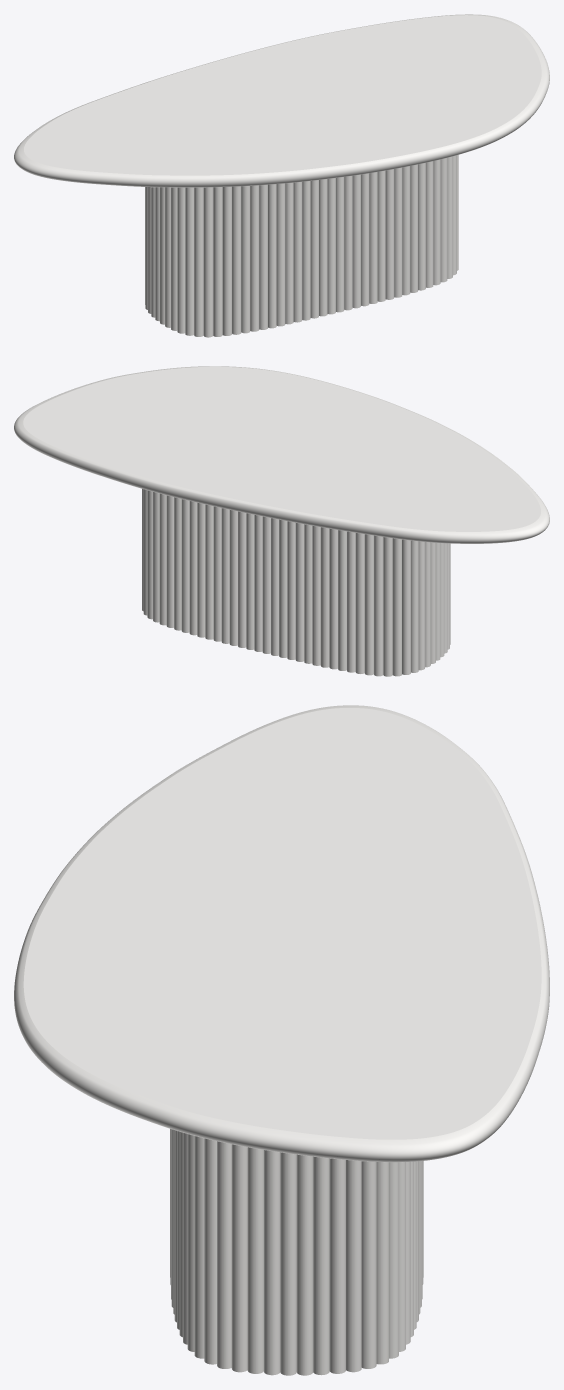
File: purewhite_pebbletop_round_newtable.glb
3 views of the same model, one above another, from view 1: azimuth 30°, elevation 25°; view 2: azimuth 150°, elevation 25°; view 3: azimuth 270°, elevation 25° (orthographic). The views are drawn at different scales.
Visible parts, largest first — view 1: round_pebbletop, newtable; view 2: round_pebbletop, newtable; view 3: round_pebbletop, newtable.
Boxes of the visible parts, left/top/right/bottom form: round_pebbletop: left=14, top=14, right=549, bottom=187; newtable: left=145, top=155, right=458, bottom=337; round_pebbletop: left=14, top=366, right=549, bottom=543; newtable: left=142, top=489, right=450, bottom=676; round_pebbletop: left=14, top=705, right=549, bottom=1162; newtable: left=170, top=1129, right=423, bottom=1375.
Size of the model in its own units: 7.5 by 2.51 by 3.8.
2 materials, 2 textured.
